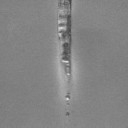slag inclusion: (56, 0, 73, 78), (64, 92, 72, 103), (66, 112, 70, 116)
